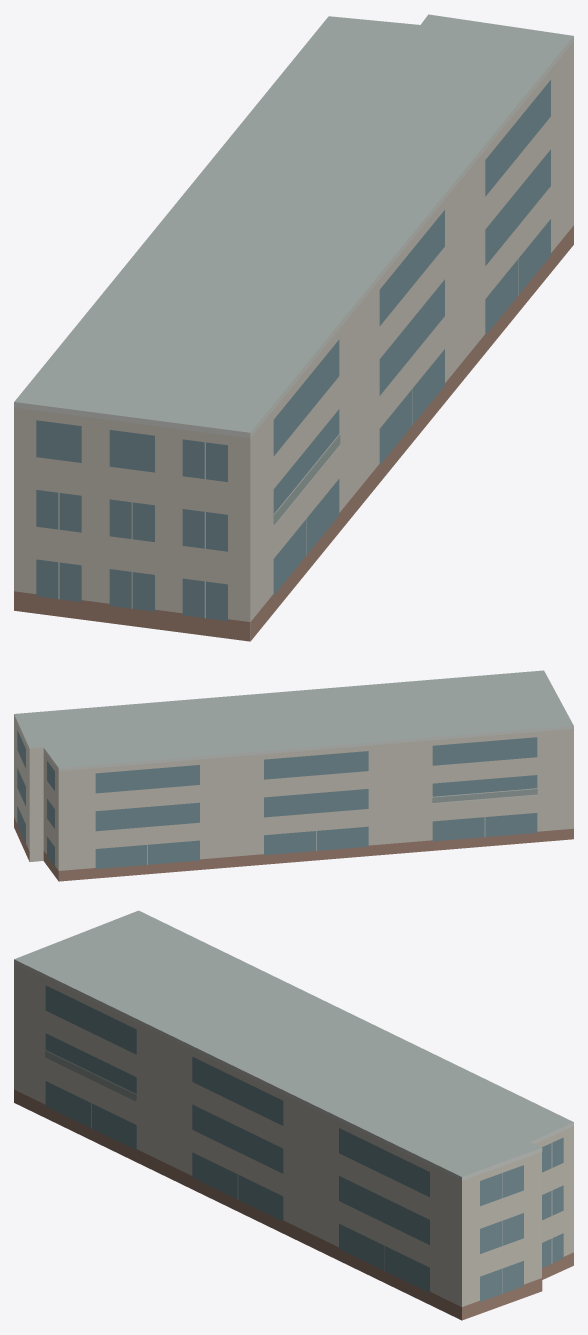
Rendered from survey-upis-32627322.glb.
The picture shows the model from 3 angles, top to bottom: view 1: azimuth 30°, elevation 25°; view 2: azimuth 150°, elevation 25°; view 3: azimuth 270°, elevation 25°; orthographic projection. The views are drawn at different scales.
Visible parts, largest first — view 1: survey-upis-32627322.tmp; view 2: survey-upis-32627322.tmp; view 3: survey-upis-32627322.tmp.
Boxes of the visible parts, <box> form: survey-upis-32627322.tmp: <box>14,14,573,641</box>; survey-upis-32627322.tmp: <box>14,670,573,881</box>; survey-upis-32627322.tmp: <box>14,910,573,1320</box>.
Bounding box in the file's own units: 36.47 × 9.15 × 32.37.
